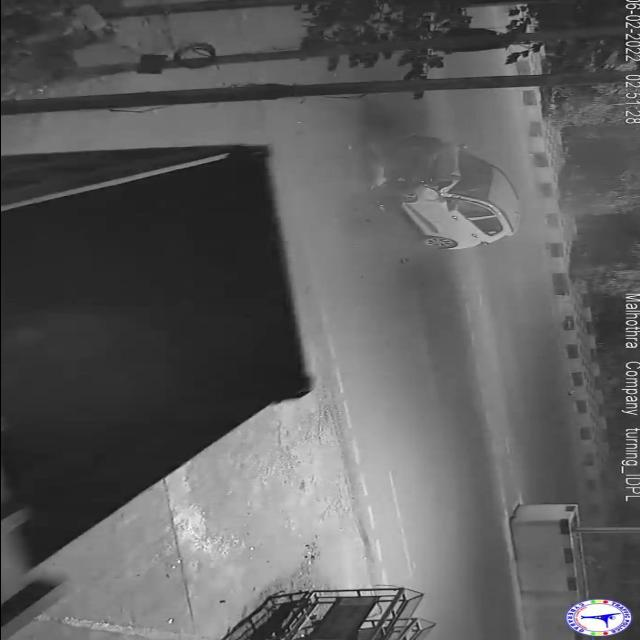accident: (368, 127, 534, 257)
